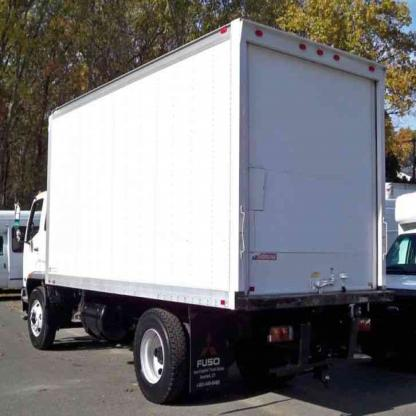truck: (14, 16, 387, 398)
